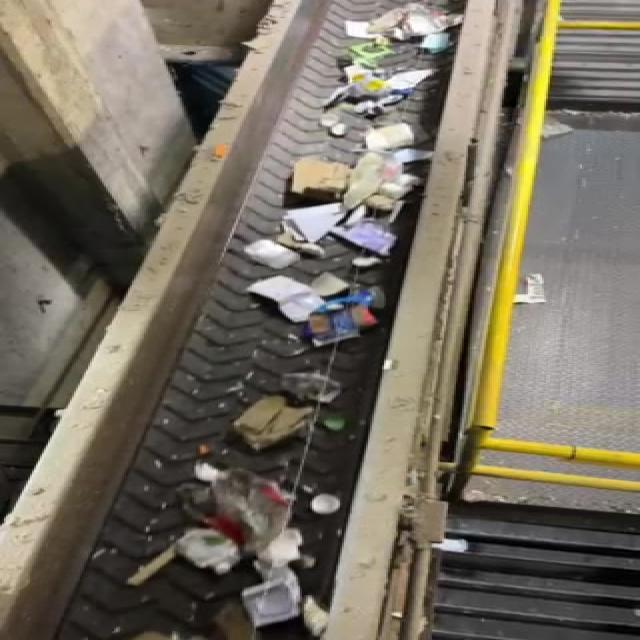metal: (255, 480, 350, 525)
paper: (232, 398, 317, 457)
ps: (170, 526, 314, 577)
